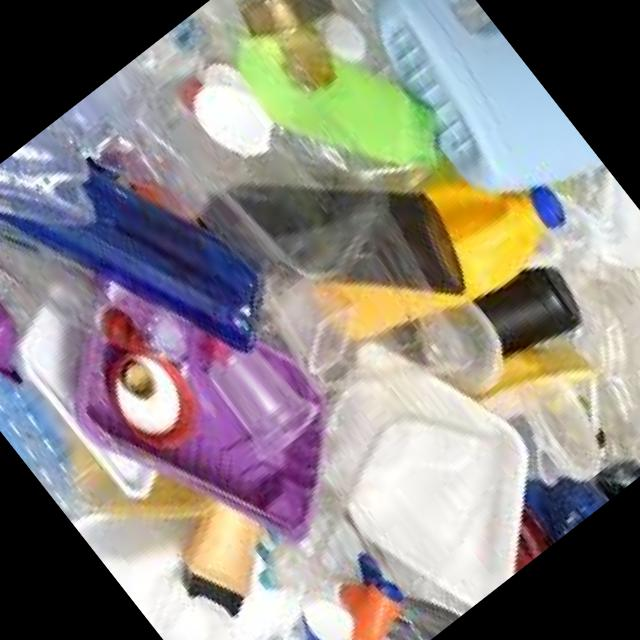GelasPlastik: (199, 340, 325, 470), (410, 286, 530, 410)
